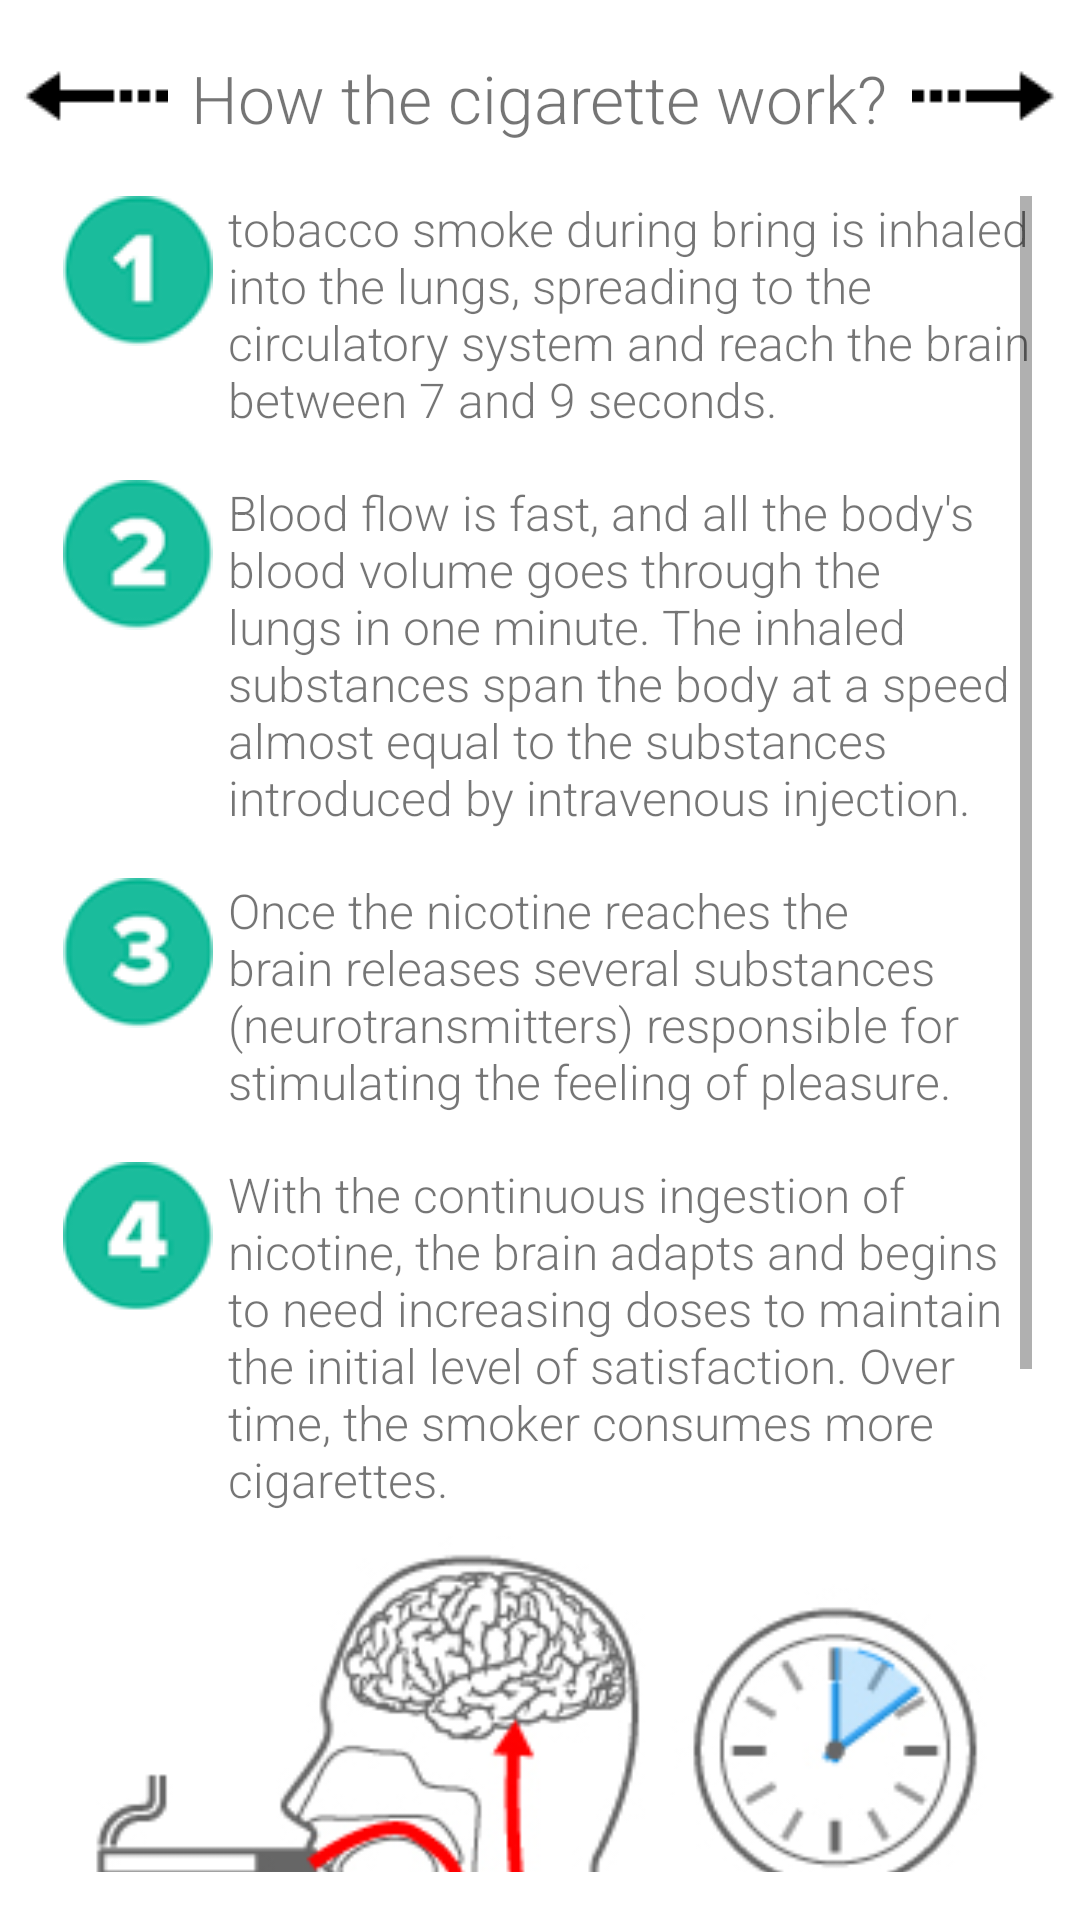

Screen size 1080*1920. Icon name, then its center in pixels as point (x, y):
Number four: point (138, 1236)
Number one: point (138, 271)
Number three: point (138, 953)
Number two: point (138, 555)
